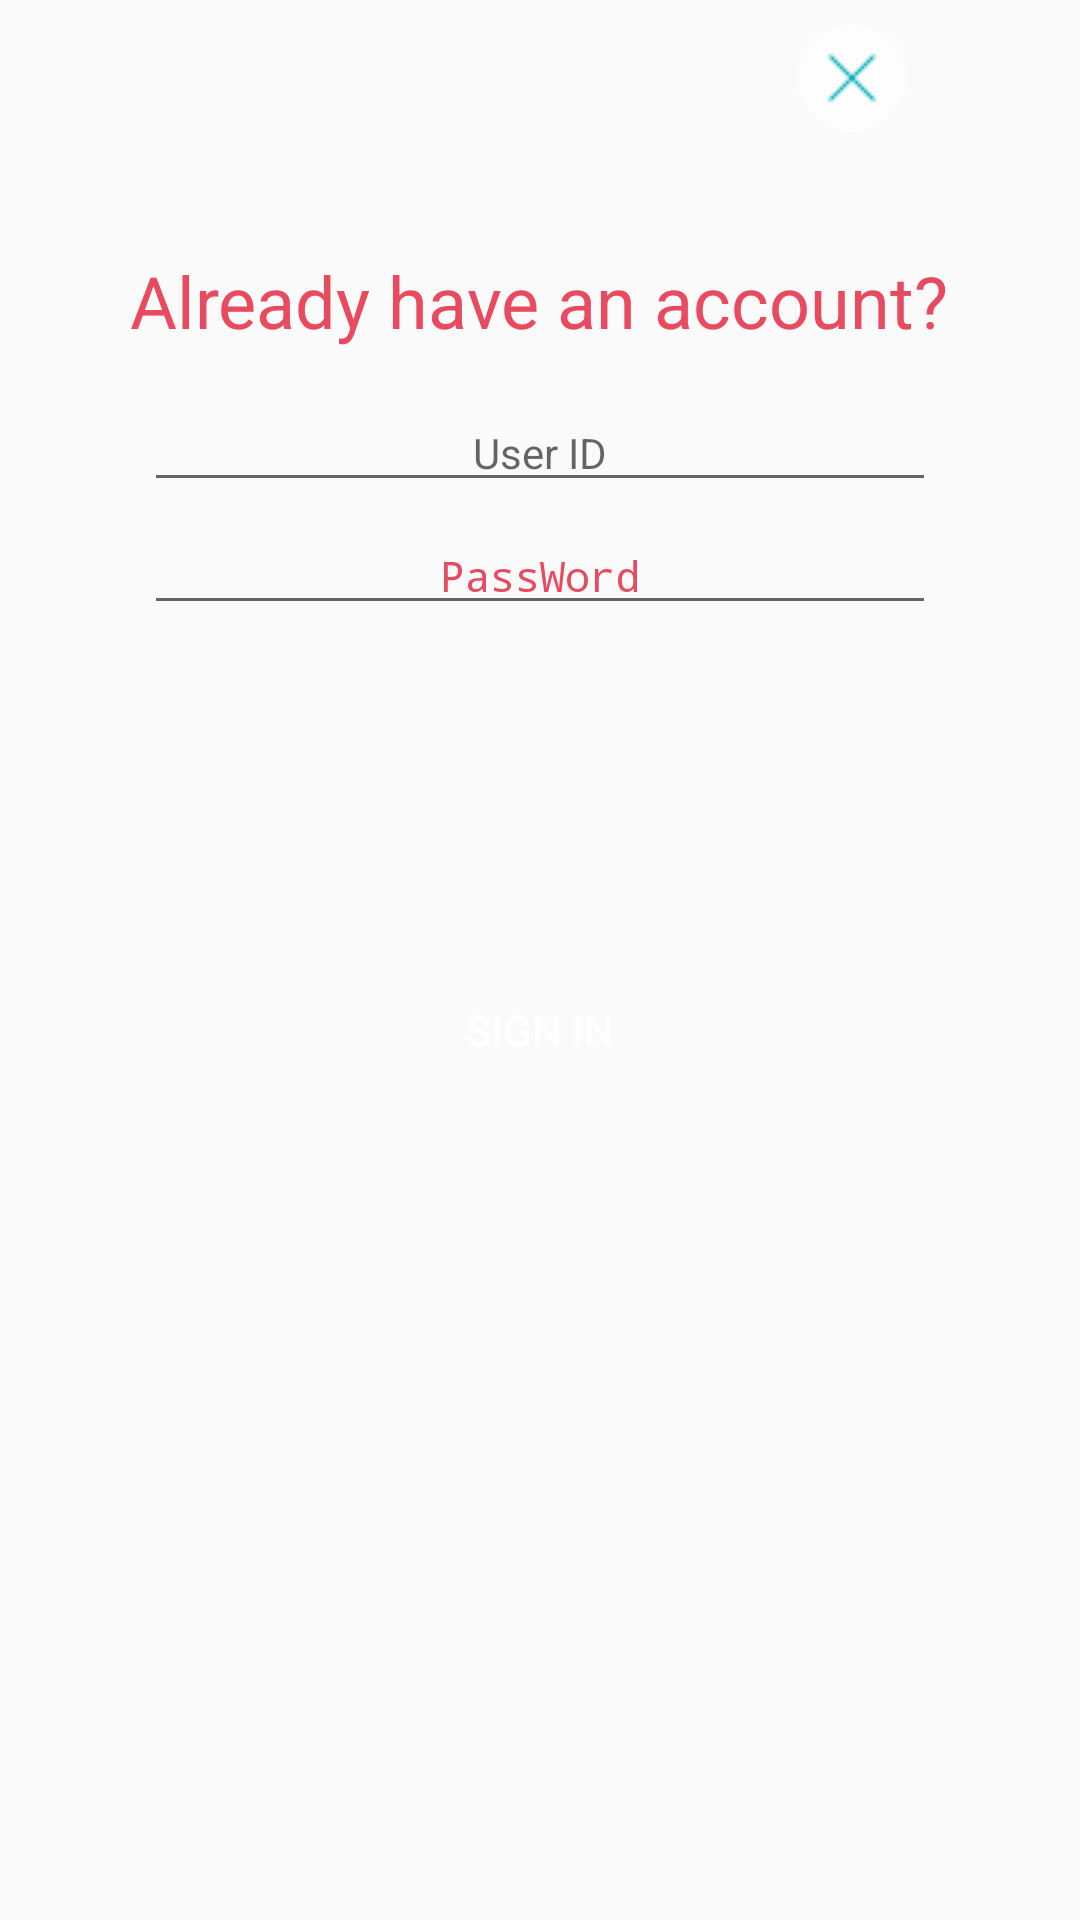

Where to tap for icons on this 1080 x 1920 app screen, as (x=x, y=y):
close: (x=852, y=78)
